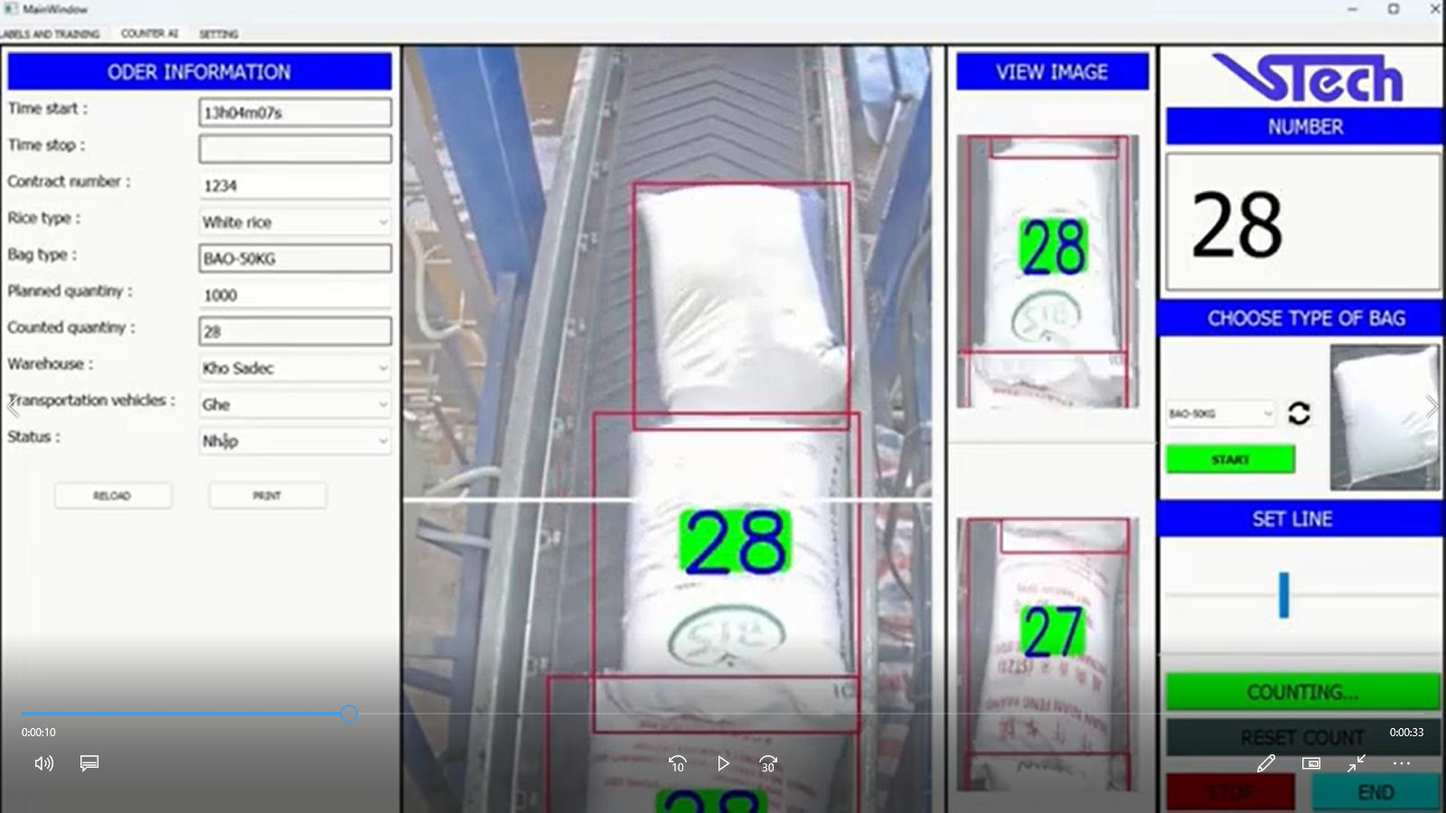rice-bag: (620, 432, 850, 676), (638, 185, 845, 411), (971, 521, 1124, 792), (970, 138, 1122, 352)
